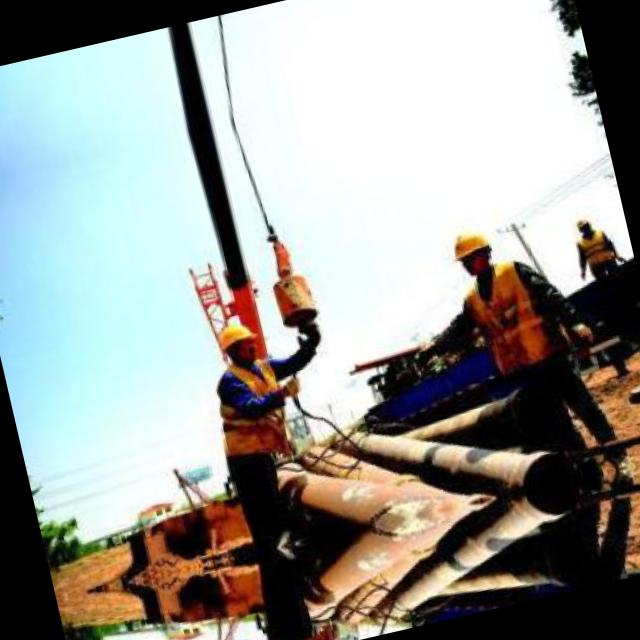helmet: (444, 220, 498, 282), (212, 313, 264, 371), (570, 214, 596, 241)
